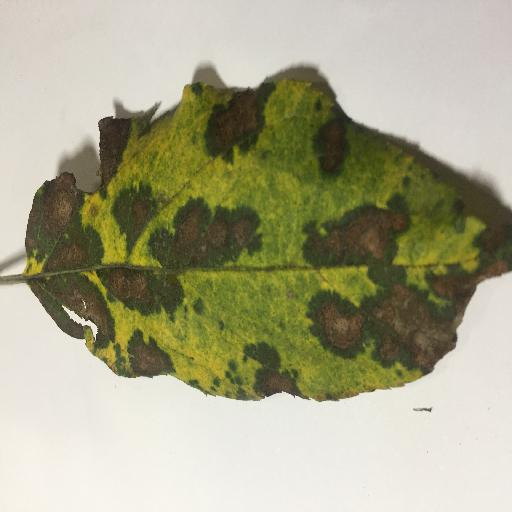Brown_Spot: (307, 265, 471, 368), (50, 274, 170, 374), (291, 210, 409, 264), (144, 212, 251, 265), (28, 184, 91, 265), (199, 96, 262, 154), (252, 355, 307, 403), (92, 122, 126, 183), (314, 120, 348, 174), (111, 193, 143, 237)
